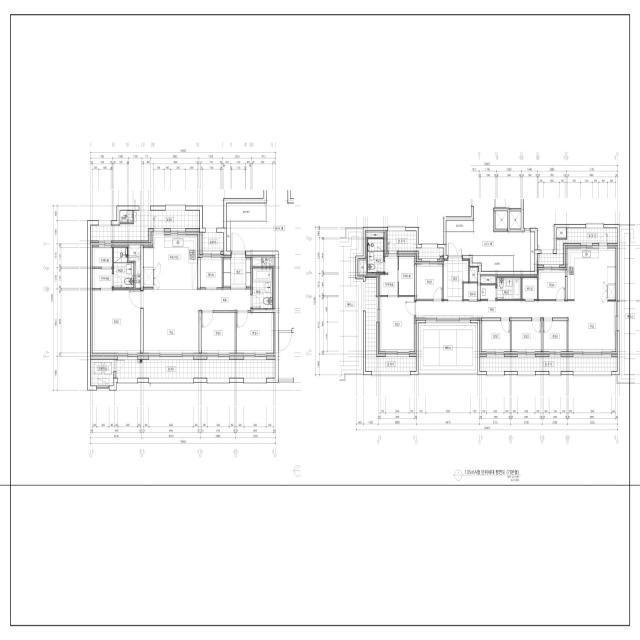space_balconi: (365, 278, 416, 371), (91, 211, 199, 241), (537, 228, 617, 265), (116, 360, 275, 378), (480, 357, 617, 371), (387, 231, 443, 259), (202, 233, 223, 251)
space_bedroom: (91, 290, 141, 356), (378, 297, 416, 354), (237, 313, 275, 356), (202, 313, 235, 356), (511, 321, 541, 354), (480, 321, 510, 354), (417, 262, 442, 299), (537, 268, 565, 299), (543, 321, 567, 354)
space_dressroom: (91, 247, 112, 288), (380, 254, 398, 295), (399, 254, 416, 295)
space_elevator_hall: (231, 190, 294, 328), (446, 199, 530, 271)
space_front: (443, 257, 470, 301), (223, 253, 251, 290)
space_kitchen: (143, 232, 200, 290), (566, 246, 617, 300)
space_living_room: (416, 301, 617, 354), (143, 290, 251, 356)
space_multipurpose_space: (522, 278, 537, 299)
space_other: (200, 255, 222, 287), (227, 203, 266, 221), (472, 256, 513, 271), (129, 243, 141, 288), (446, 220, 473, 231), (480, 285, 496, 300), (252, 256, 275, 266), (464, 283, 478, 299), (496, 211, 508, 229), (510, 211, 521, 229), (531, 232, 535, 271), (480, 275, 496, 284), (358, 259, 366, 276), (470, 267, 479, 282), (120, 211, 132, 222), (365, 231, 384, 237), (557, 228, 566, 238), (227, 222, 230, 251)
space_outdoor_room: (91, 359, 115, 386)
space_toilet: (252, 268, 273, 309), (114, 247, 134, 288), (368, 239, 384, 273), (497, 278, 521, 299)
